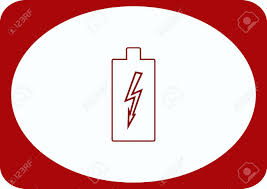charging sign: (95, 37, 172, 156)
